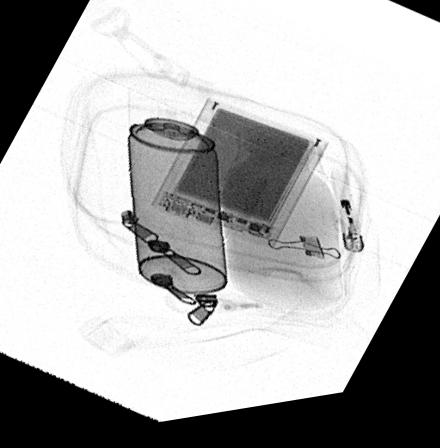Lighter: (330, 182, 363, 265)
Powerbank: (151, 105, 329, 258)
Sprayer: (128, 87, 227, 300)
